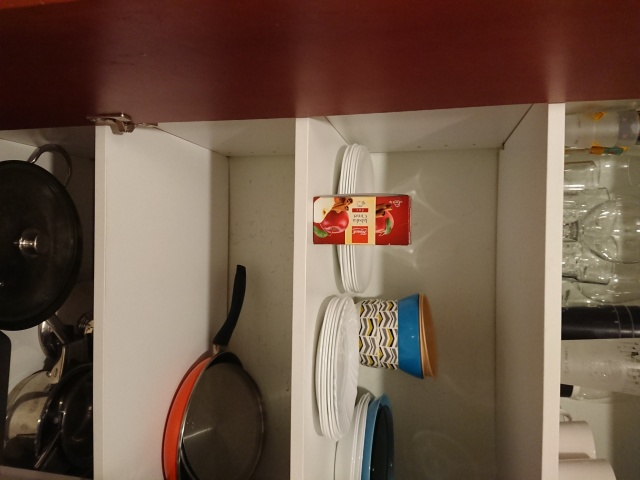Franck Apple Cinnamon Tea 60g: (310, 191, 414, 248)
